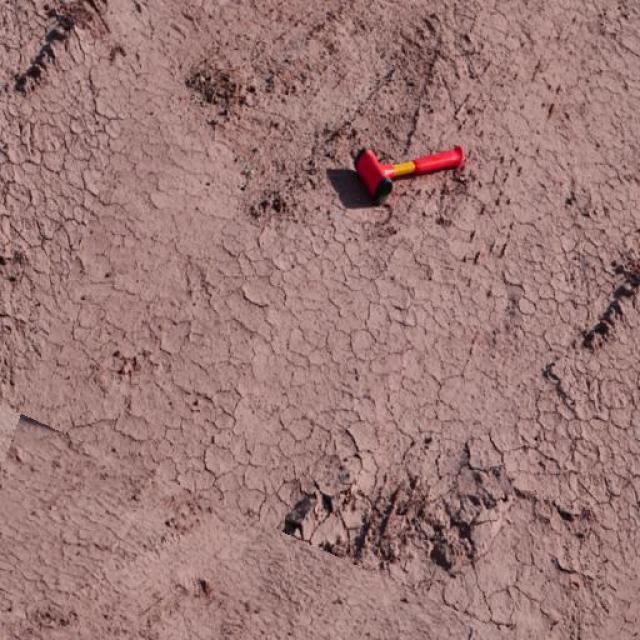mallet: (355, 142, 466, 200)
